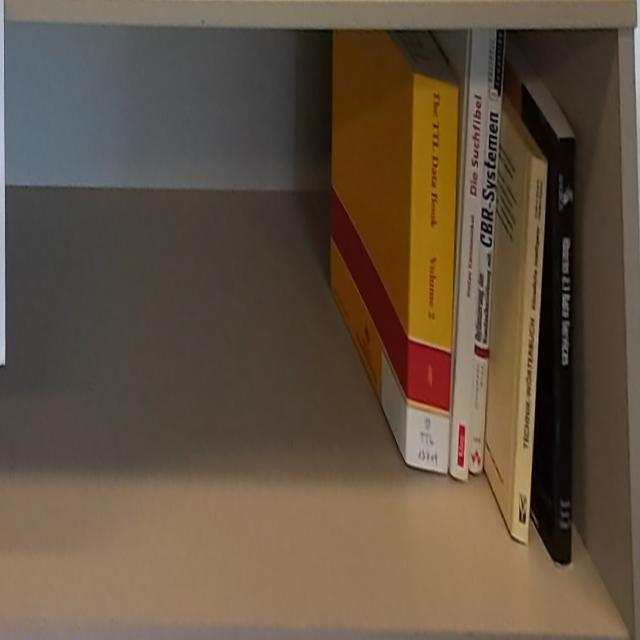Book Spine: (406, 71, 458, 475), (450, 28, 491, 481), (469, 28, 507, 475), (511, 156, 547, 546), (555, 135, 576, 568)
